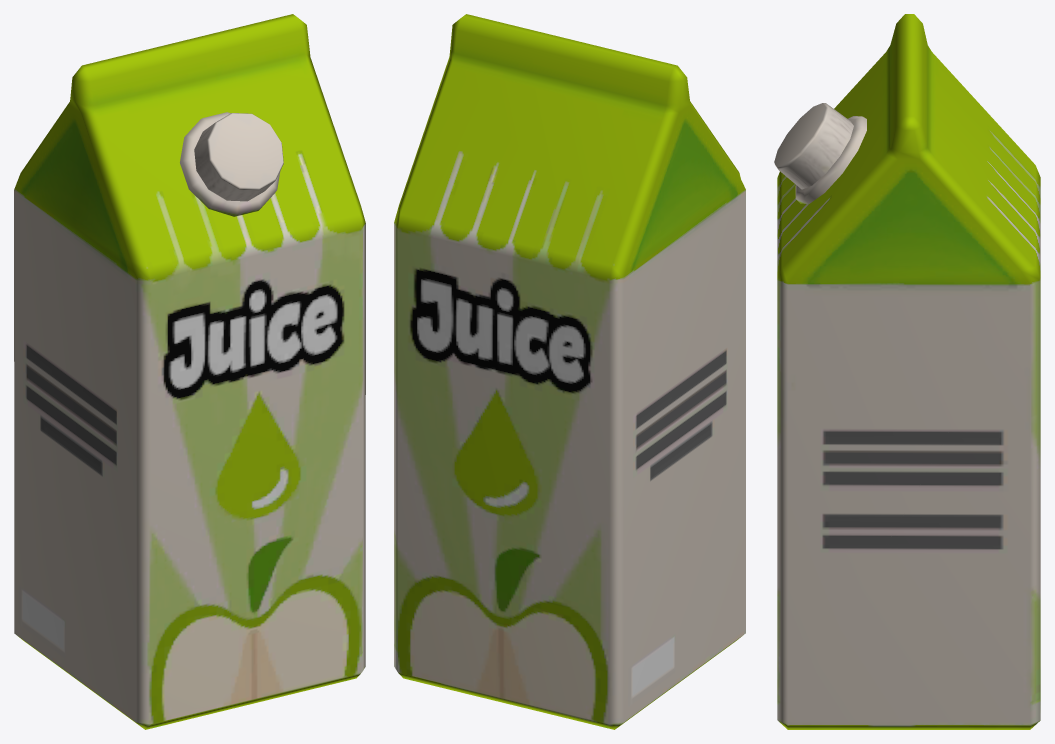
Rendered from 0-juice_green.fbx.
3 views of the same model, side by side, from view 1: azimuth 30°, elevation 25°; view 2: azimuth 150°, elevation 25°; view 3: azimuth 270°, elevation 25° (orthographic).
Parts seen in each view (by area): view 1: 0-juice_green; view 2: 0-juice_green; view 3: 0-juice_green.
Part boxes in pixels (x1,y1,x2,y2): 0-juice_green: (14, 14, 365, 729); 0-juice_green: (394, 14, 745, 729); 0-juice_green: (774, 14, 1040, 729).
Size of the model in its own units: 36.16 by 92.94 by 36.6.
